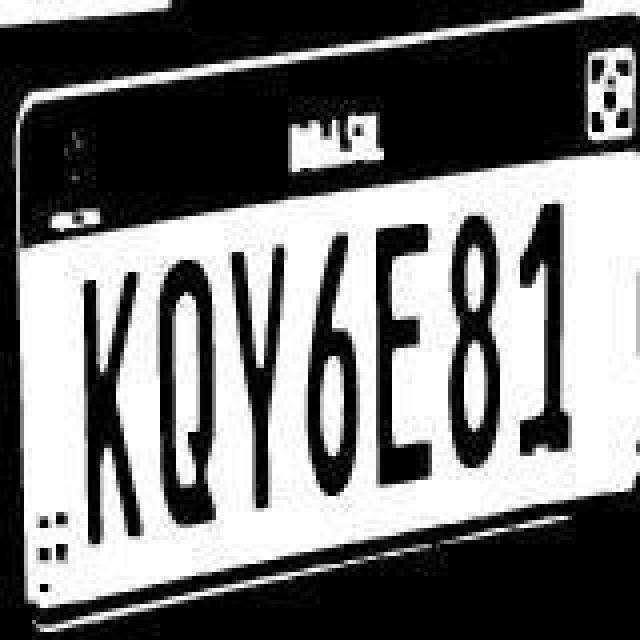1: (514, 194, 582, 462)
6: (300, 232, 364, 504)
8: (440, 210, 504, 478)
E: (368, 214, 432, 490)
K: (76, 266, 148, 550)
Q: (154, 256, 222, 536)
Y: (228, 236, 292, 516)
